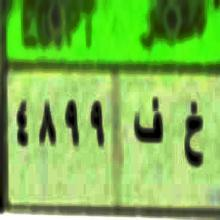4: (13, 92, 32, 163)
8: (36, 96, 56, 160)
9: (86, 92, 109, 156), (63, 95, 82, 156)
faa: (129, 92, 165, 152)
khaa: (181, 98, 204, 179)
